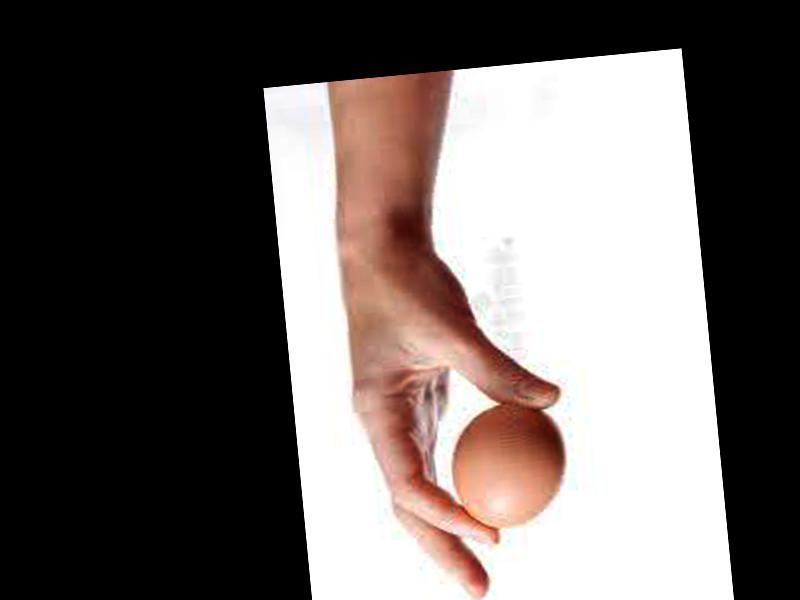Eggs: (448, 397, 570, 531)
